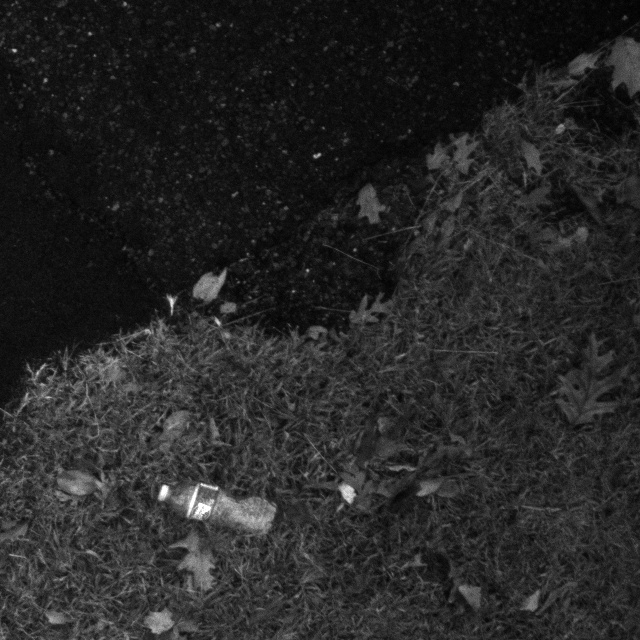bottle: (140, 470, 288, 547)
